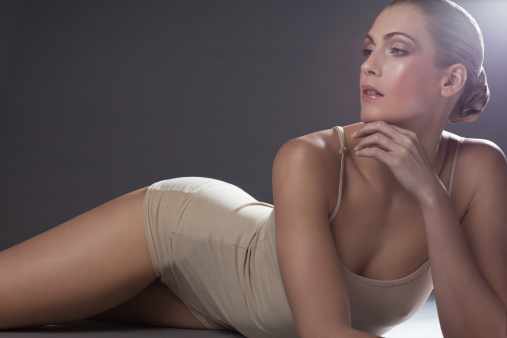deitado: (232, 0, 507, 338)
